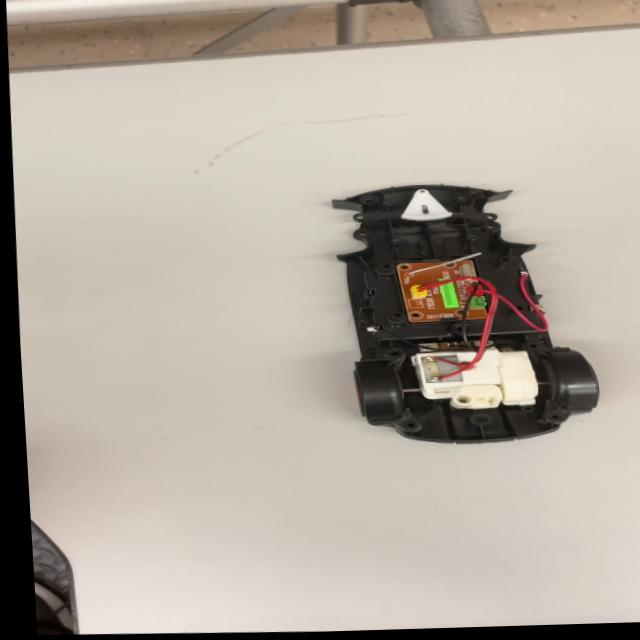Chassis: (322, 177, 577, 455)
